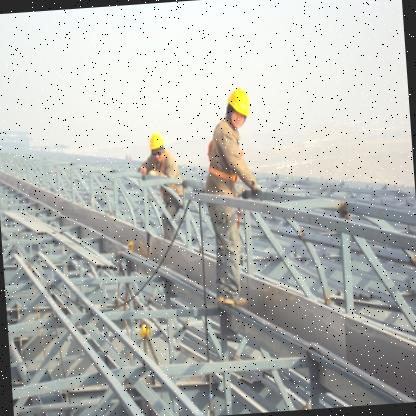capacete: (223, 84, 253, 131), (148, 130, 166, 165)
sem_colete_refletivo: (202, 118, 247, 212), (144, 152, 182, 200)
